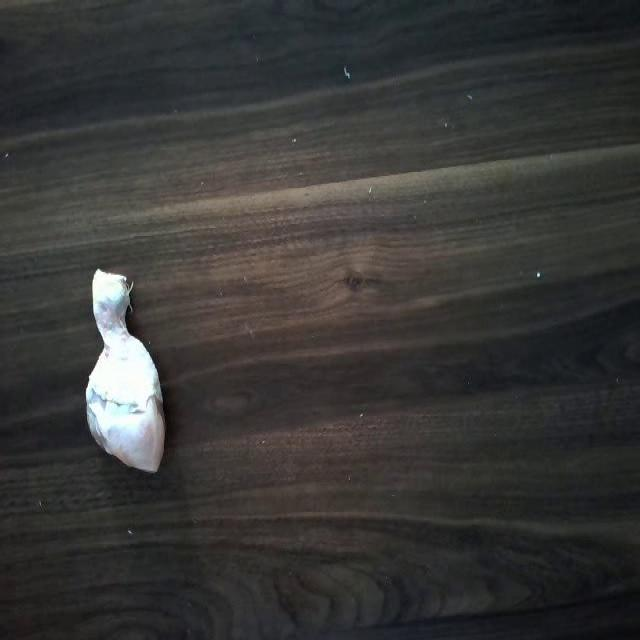leg: (57, 250, 179, 472)
